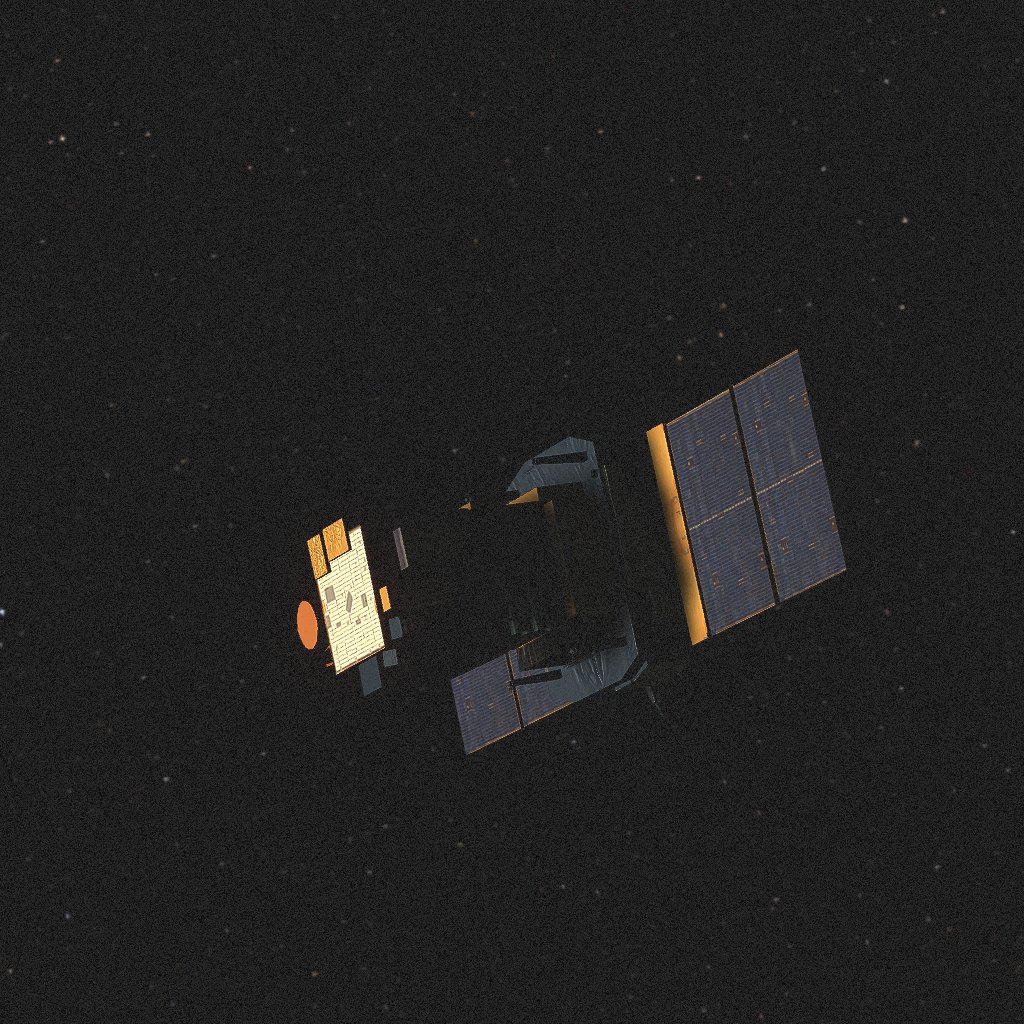soho: (297, 349, 853, 755)
